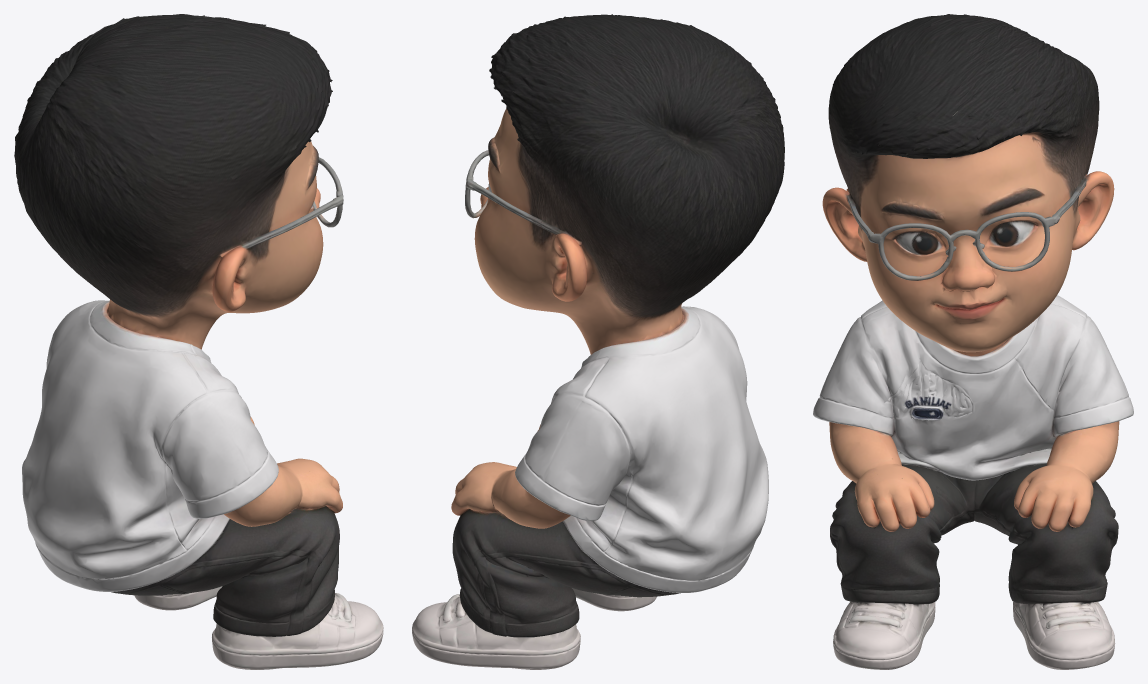
The model's file is 王薪宇.glb.
3 renders of one model, left to right at view 1: azimuth 30°, elevation 25°; view 2: azimuth 150°, elevation 25°; view 3: azimuth 270°, elevation 25°, orthographic. The views are drawn at different scales.
Parts seen in each view (by area): view 1: tripo_node_2df93661-b6f0-4307-9dd8-e1cdb21230d3; view 2: tripo_node_2df93661-b6f0-4307-9dd8-e1cdb21230d3; view 3: tripo_node_2df93661-b6f0-4307-9dd8-e1cdb21230d3.
Boxes of the visible parts, <box> form: tripo_node_2df93661-b6f0-4307-9dd8-e1cdb21230d3: <box>14,14,383,669</box>; tripo_node_2df93661-b6f0-4307-9dd8-e1cdb21230d3: <box>412,14,784,669</box>; tripo_node_2df93661-b6f0-4307-9dd8-e1cdb21230d3: <box>813,14,1133,669</box>.
Size of the model in its own units: 0.4959 by 0.9805 by 0.4974.
Materials: 1 (1 with a texture image).
